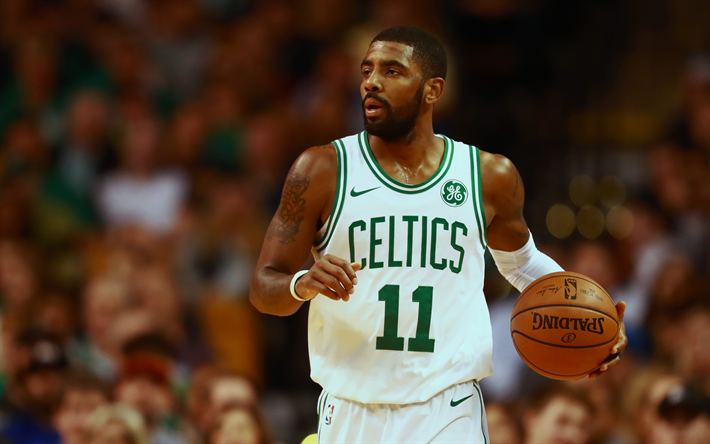ball: (511, 268, 622, 381)
player: (249, 23, 570, 444)
